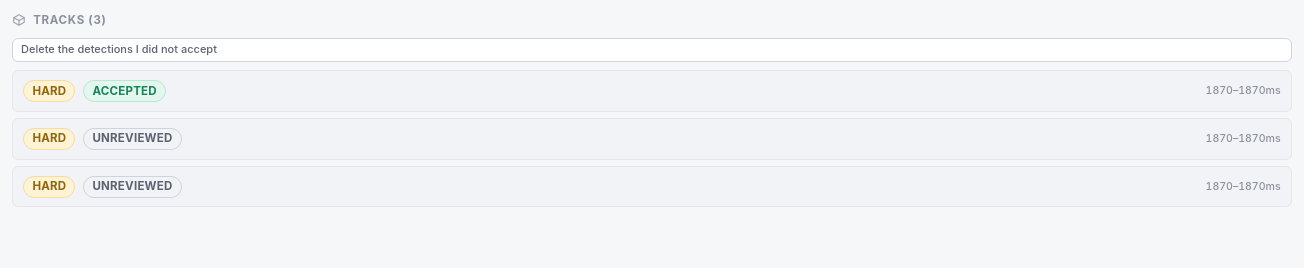
SweepTracks › says what it would take before taking it
Step 1. Click the button "Delete the detections I did not accept" → (119, 49), box [12, 38, 1292, 62]
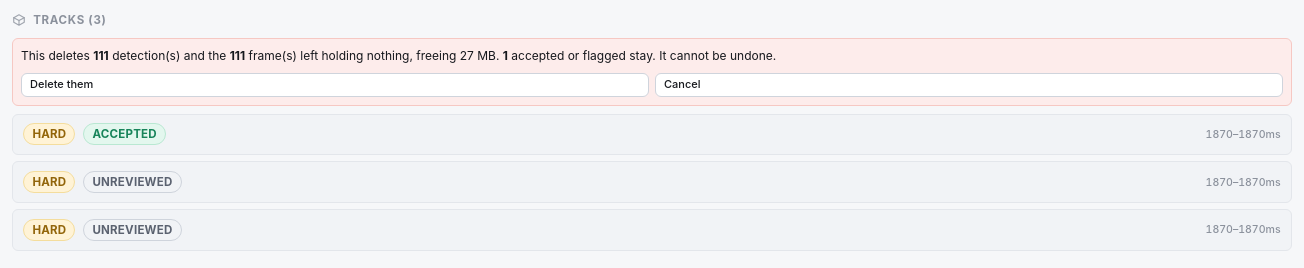
Now the message shows "111 detection", box [12, 38, 1292, 106]
Now the message shows "27 MB", box [460, 48, 496, 63]
